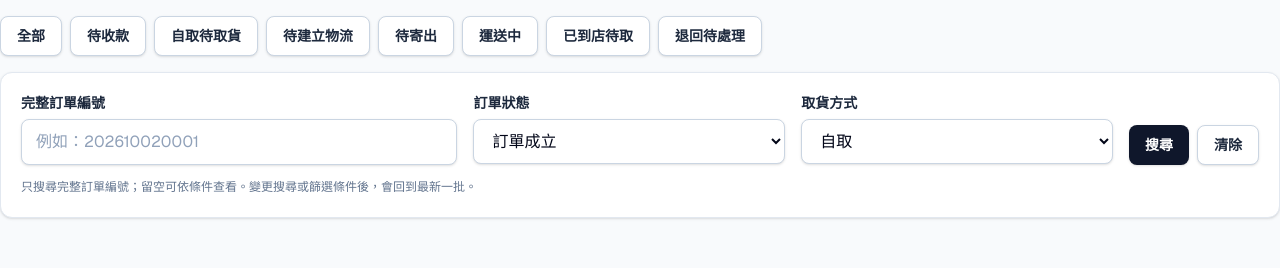
Scenario: changing a filter incompatible with UNPAID fails closed without discarding the queue
The image size is (1280, 268).
Step 1. Select "已取消" in the dropdown labelled "訂單狀態" → (629, 142), box [474, 119, 785, 164]
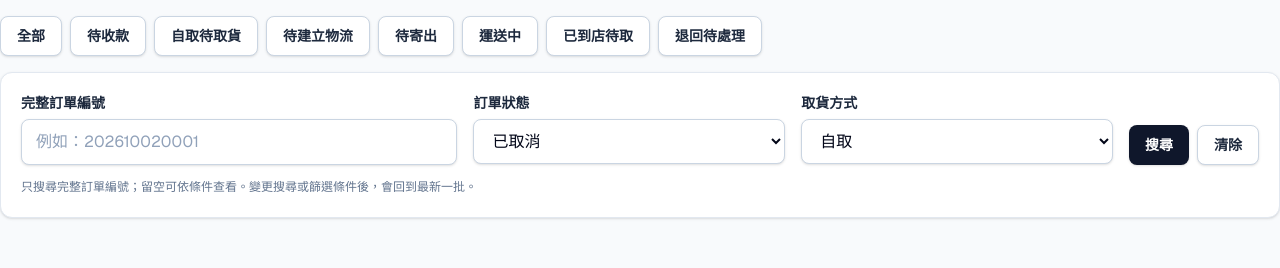
Step 2. Submit the form named "搜尋及篩選訂單", box [0, 72, 1279, 218]
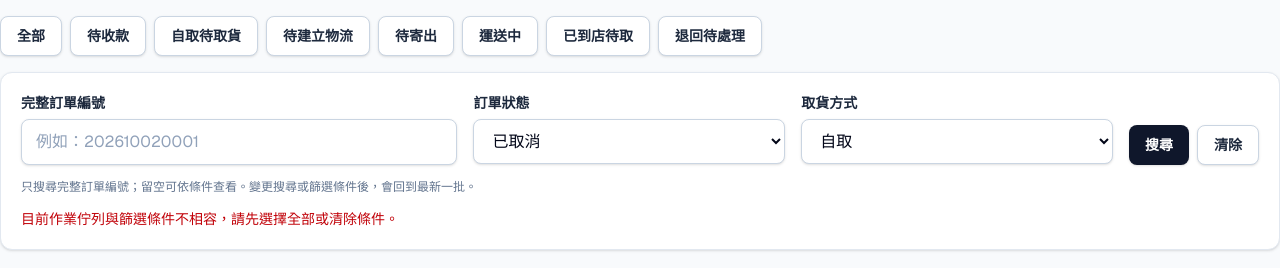
Check: the message reads "目前作業佇列與篩選條件不相容，請先選擇全部或清除條件。", box [21, 210, 399, 228]
